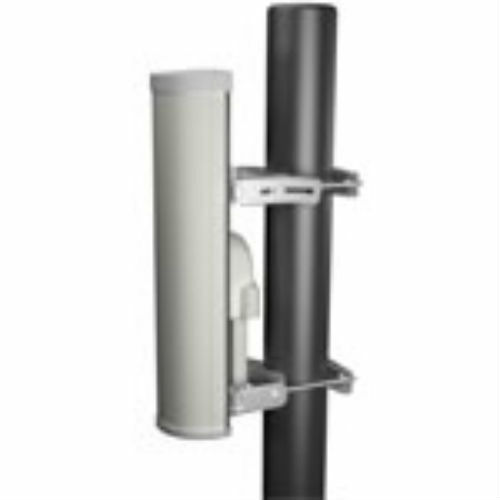sa: (140, 58, 266, 448)
